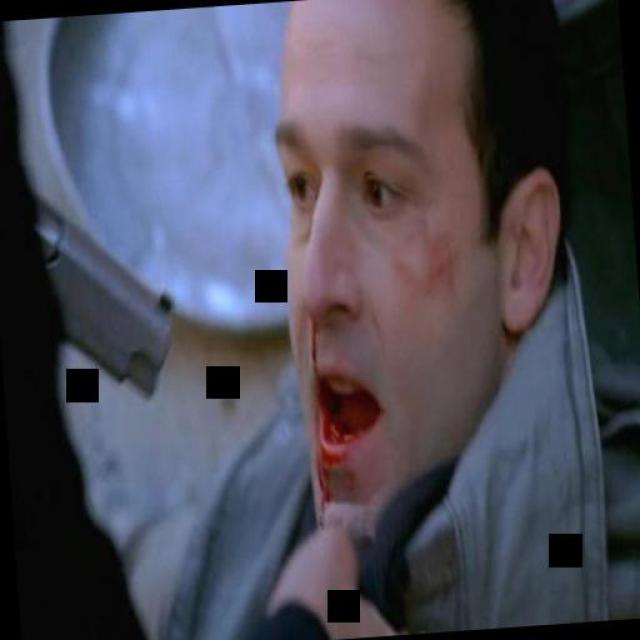gun: (0, 145, 176, 420)
